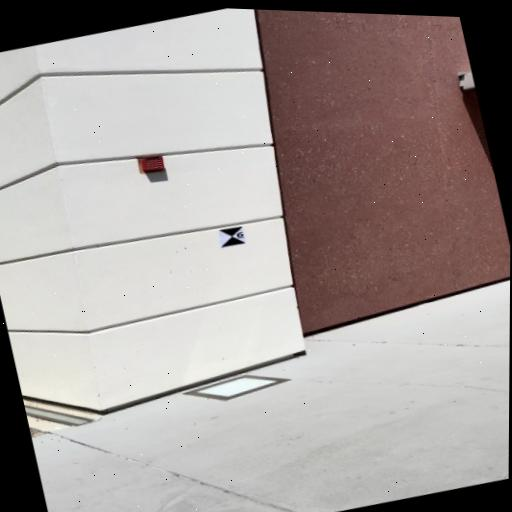target6: (218, 226, 246, 248)
